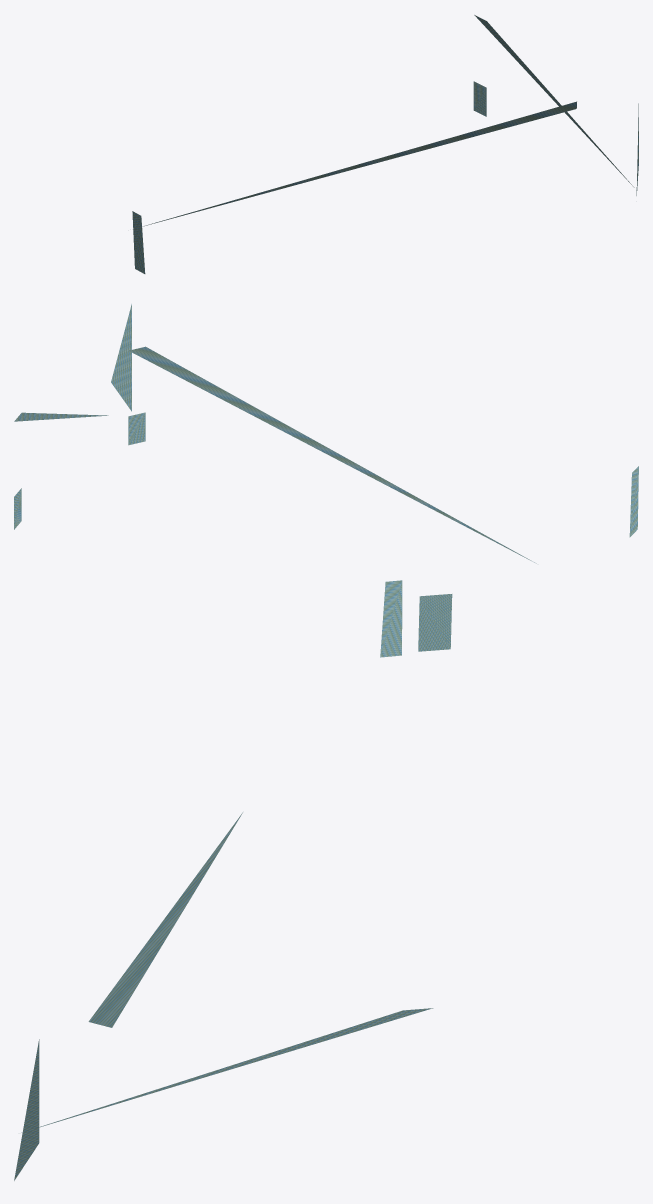
The picture shows the model from 3 angles, top to bottom: view 1: azimuth 30°, elevation 25°; view 2: azimuth 150°, elevation 25°; view 3: azimuth 270°, elevation 25°; orthographic projection. The views are drawn at different scales.
Parts seen in each view (by area): view 1: OM_60_mi_bg04A; view 2: OM_60_mi_bg04A; view 3: OM_60_mi_bg04A.
Part boxes in pixels (x1,y1,x2,y2): OM_60_mi_bg04A: [132, 15, 638, 273]; OM_60_mi_bg04A: [14, 304, 638, 657]; OM_60_mi_bg04A: [14, 812, 433, 1180].
Bounding box in the file's own units: 1702 × 324 × 1210.
1 material, 1 textured.
